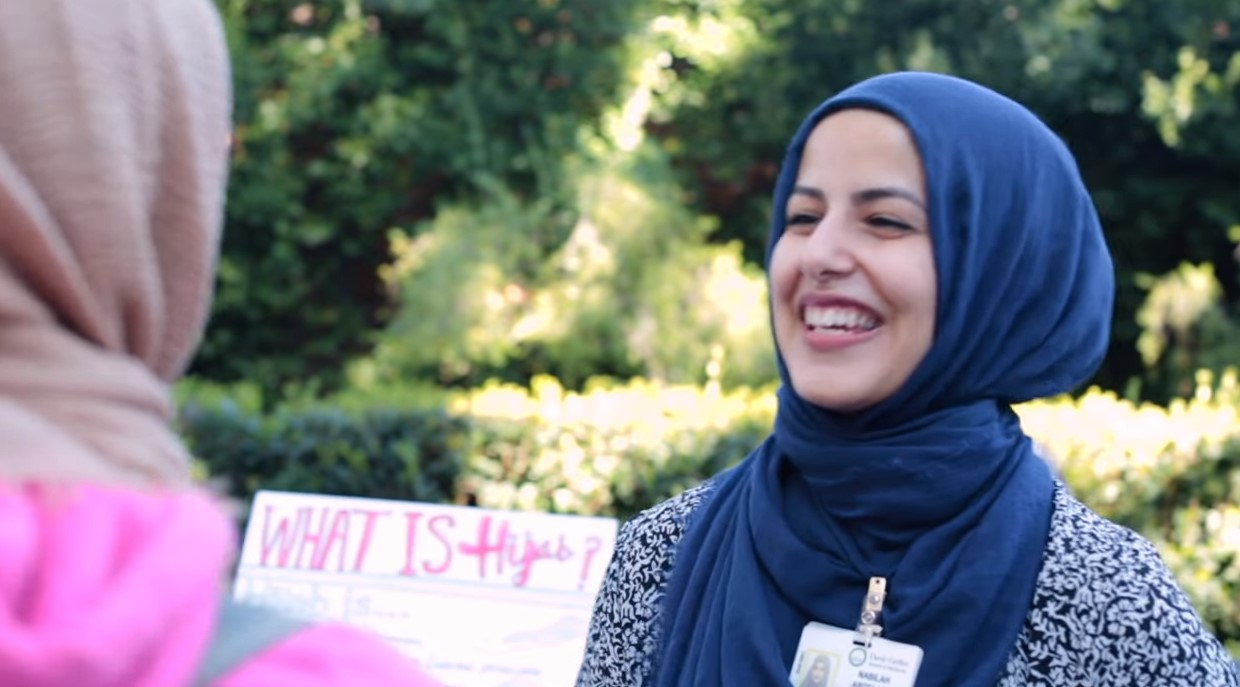face_no_mask: (770, 84, 976, 401)
